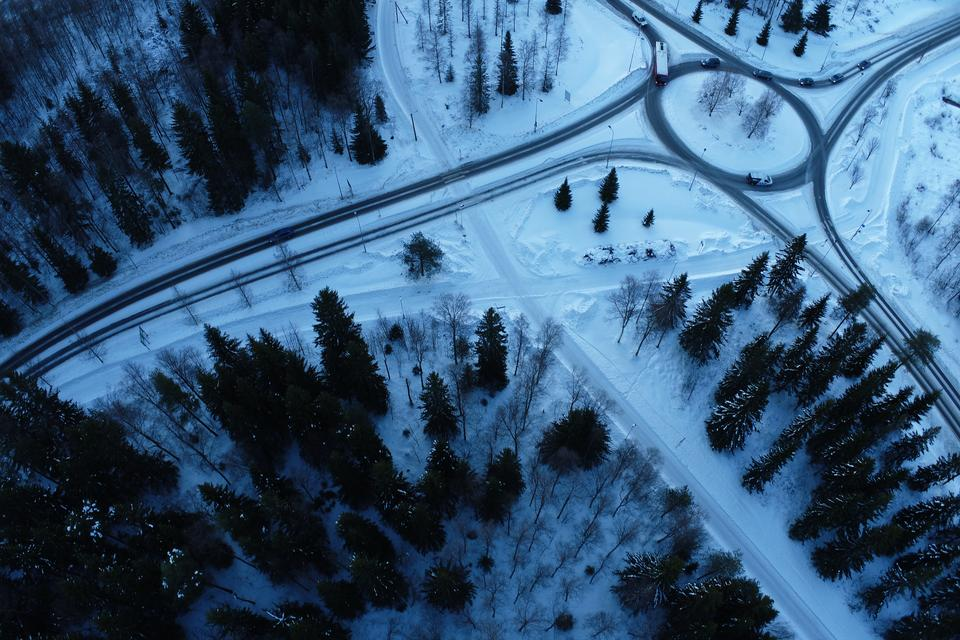intersection: (757, 221, 884, 272), (431, 153, 488, 229)
roundabout: (621, 33, 867, 204)
